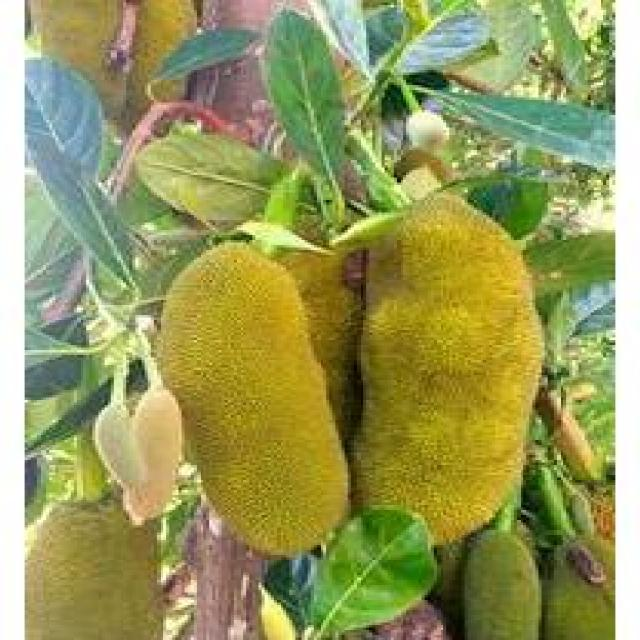Fruit: (317, 135, 572, 585), (132, 225, 388, 585)
